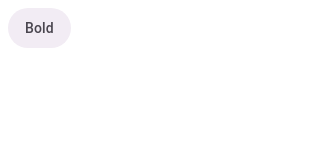
Test: Button as a toggle › toggles its own state when uncontrolled
Click the button "Bold".
click(39, 28)  # box x1=8 y1=8 x2=71 y2=48
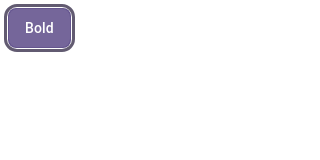
Check: the button "Bold" is pressed, box x1=8 y1=8 x2=71 y2=48
